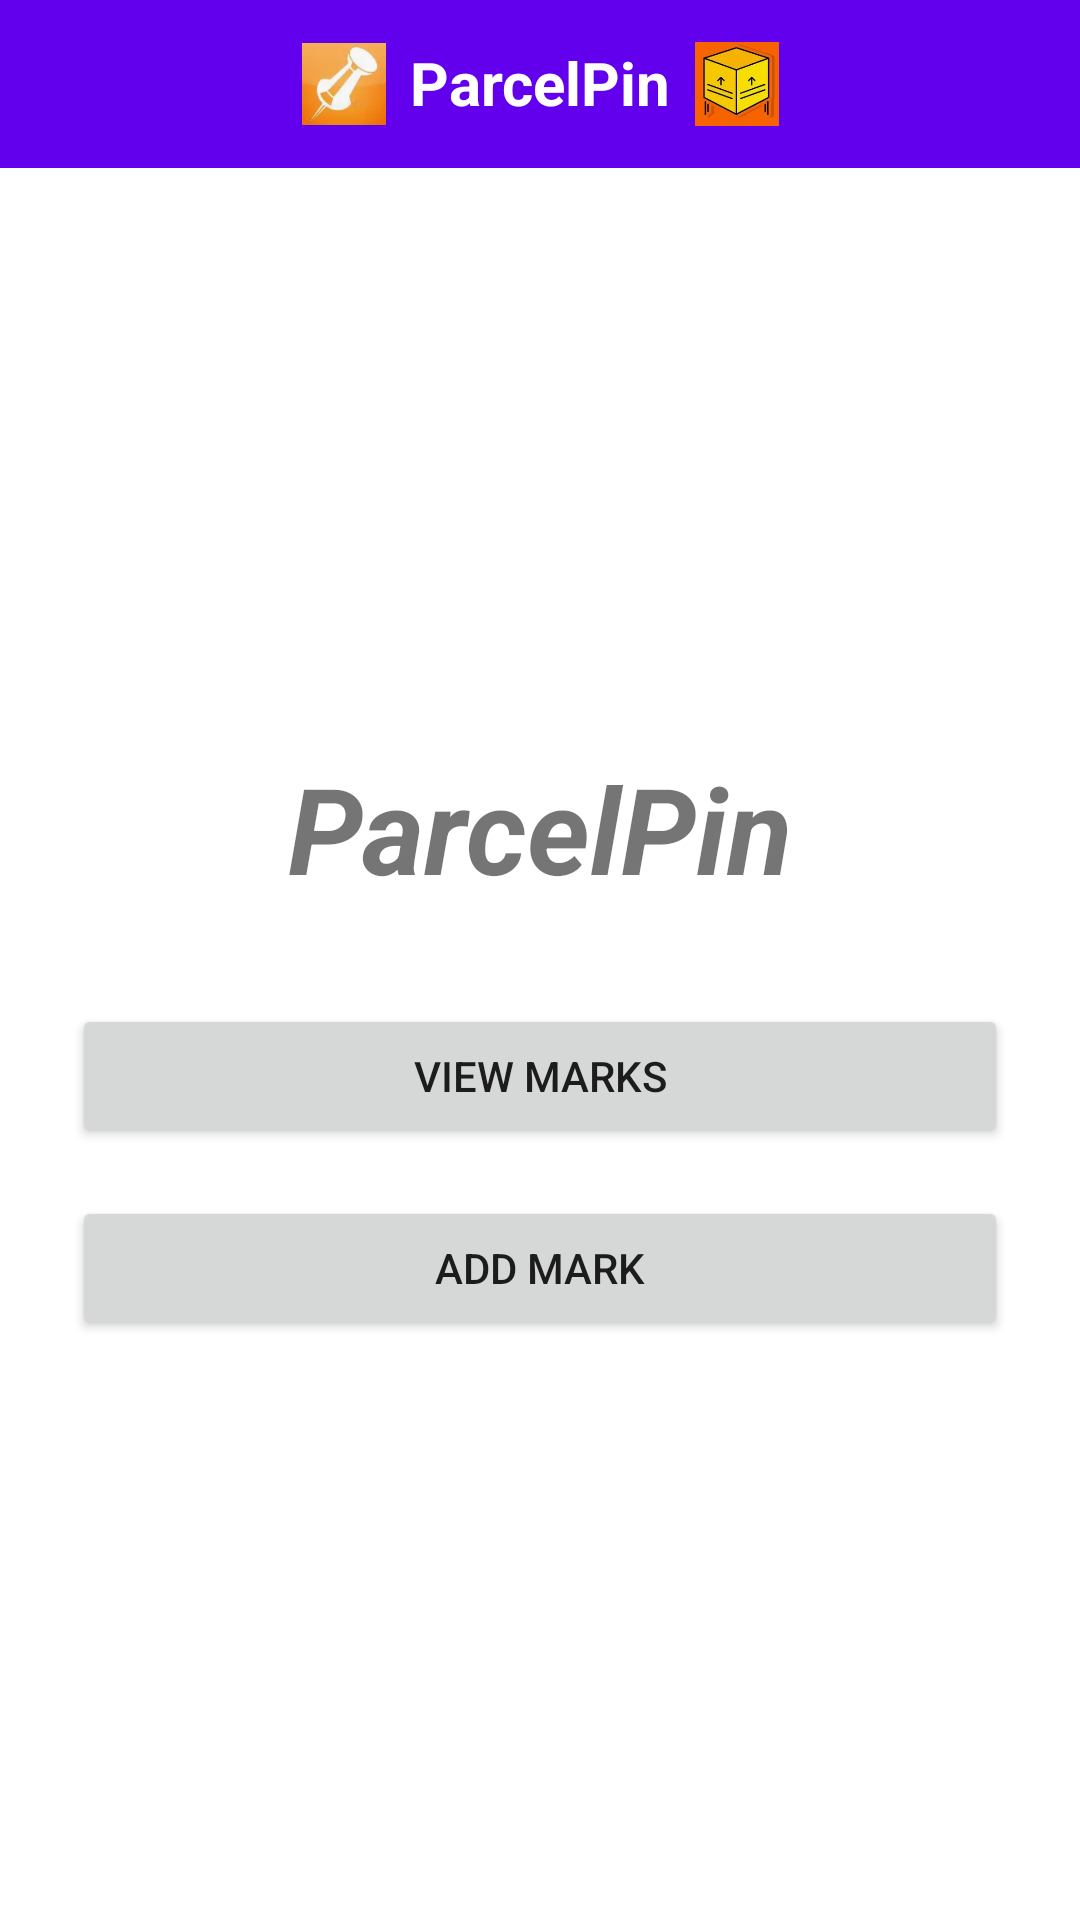

Named icons in this screenshot (1080px×1920px) and their bounding boxes, box=[x1, y1, x2, y2]:
cardboard box: box=[695, 42, 779, 126]
pushpin: box=[302, 43, 386, 125]
